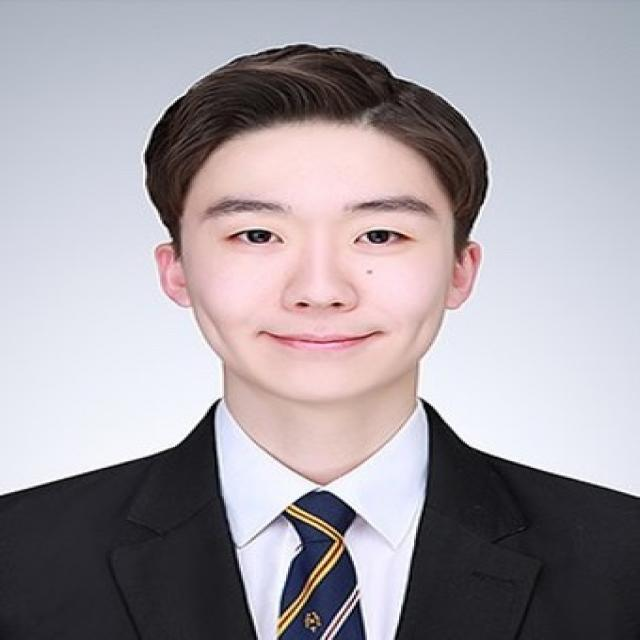Nonhelmet: (136, 39, 495, 405)
